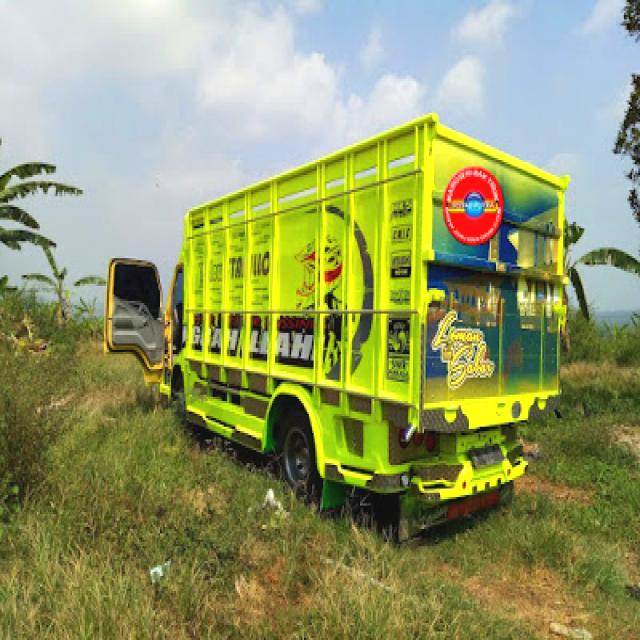truck: (104, 110, 571, 515)
